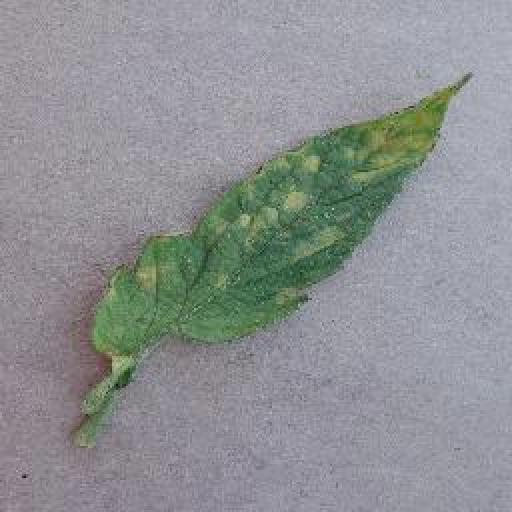disease_tomato: (94, 84, 456, 358)
